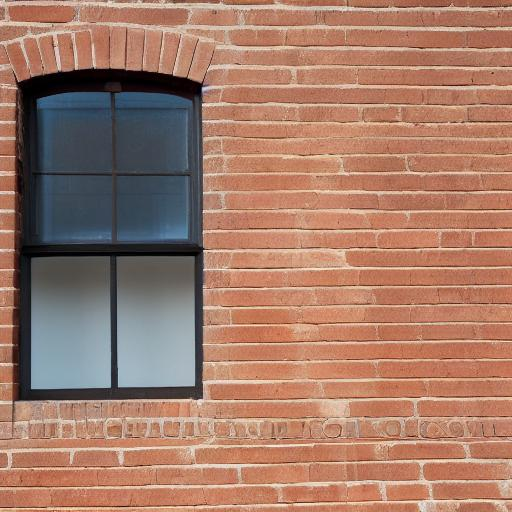Window: (7, 25, 216, 404)
